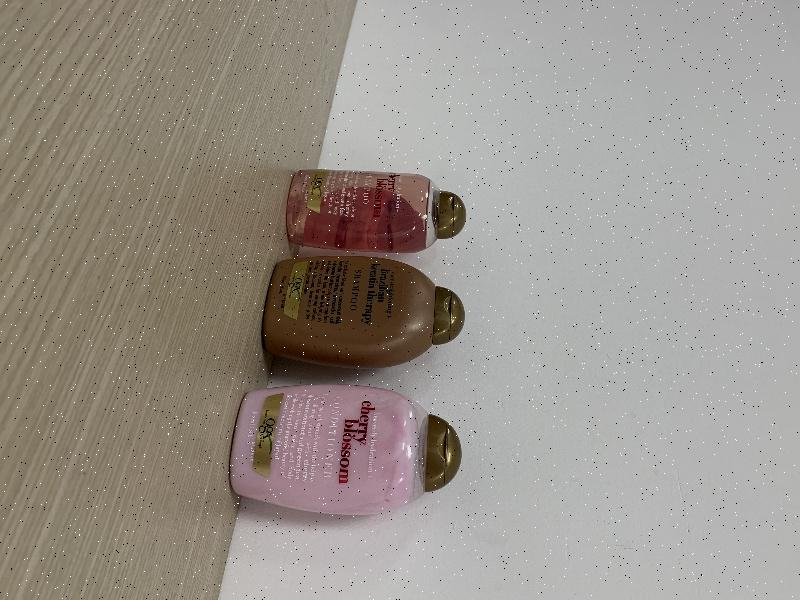BrazilianKeratinTherapy_Shampoo: (262, 256, 465, 368)
CherryBlossom_Conditioner: (230, 384, 462, 515)
CherryBlossom_Shampoo: (286, 169, 466, 253)
